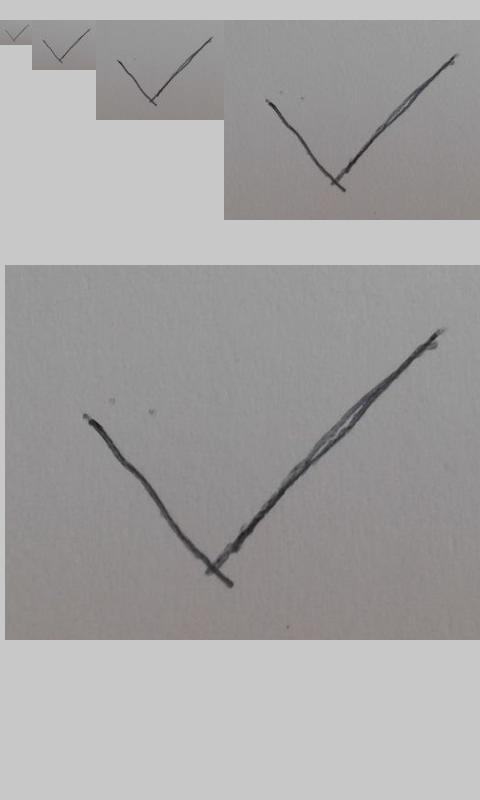check_box: (80, 333, 440, 583), (266, 55, 456, 187), (118, 38, 212, 103), (42, 28, 90, 61), (5, 24, 29, 41)
